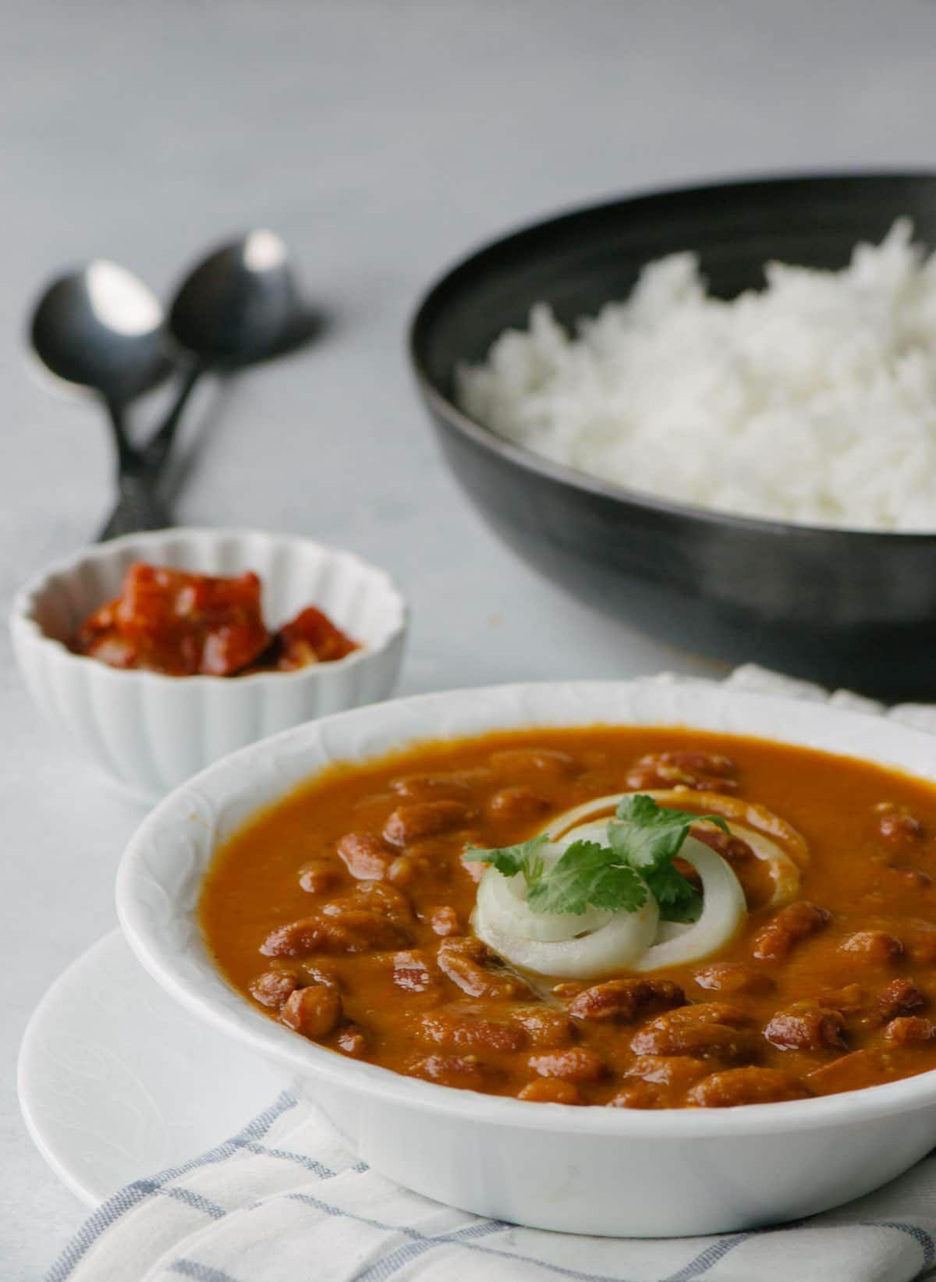RajmaCurry: (204, 730, 936, 1128)
WhiteRice: (463, 220, 936, 526)
